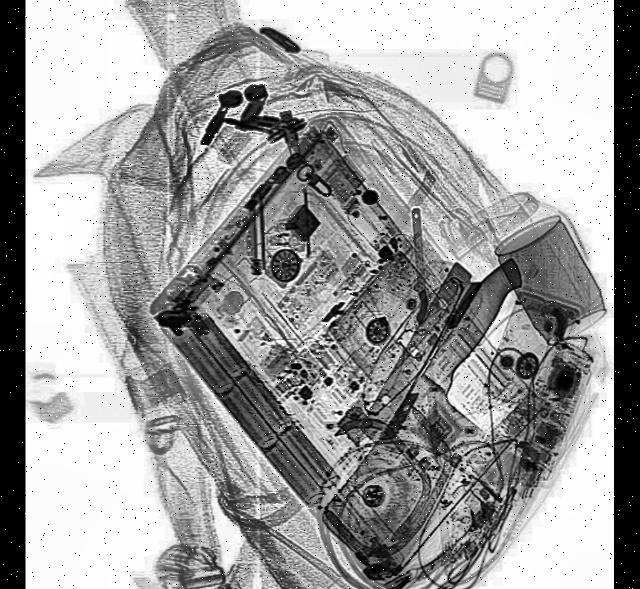Knife: (318, 251, 569, 580)
